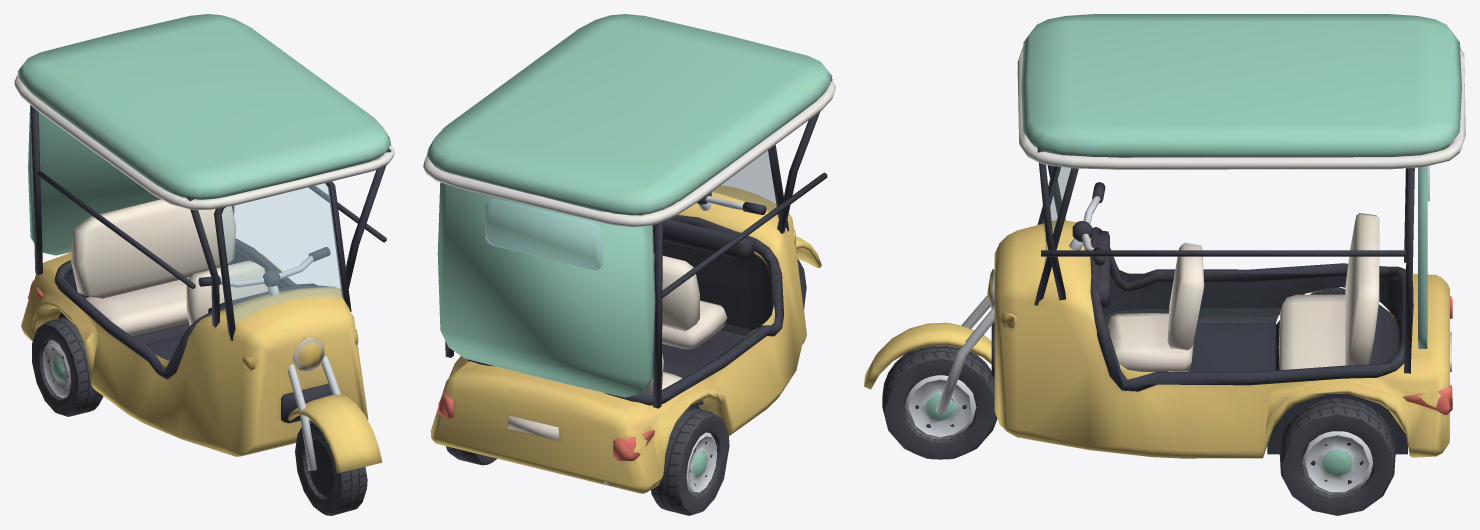
File: tuk-tuk.glb
The picture shows the model from 3 angles, left to right: view 1: azimuth 30°, elevation 25°; view 2: azimuth 150°, elevation 25°; view 3: azimuth 270°, elevation 25°; orthographic projection. The views are drawn at different scales.
Parts seen in each view (by area): view 1: tuk-tuk_body, tuk-tuk_windows, tuk-tuk_wheel_f, tuk-tuk_handlebar; view 2: tuk-tuk_body, tuk-tuk_windows, tuk-tuk_wheel_f, tuk-tuk_handlebar; view 3: tuk-tuk_body, tuk-tuk_wheel_f, tuk-tuk_handlebar, tuk-tuk_windows.
Part boxes in pixels (box(x1,y1,x2,y2)): tuk-tuk_body: box(14, 14, 394, 456); tuk-tuk_windows: box(222, 183, 342, 324); tuk-tuk_wheel_f: box(32, 317, 367, 515); tuk-tuk_handlebar: box(47, 247, 382, 494); tuk-tuk_body: box(423, 14, 835, 493); tuk-tuk_windows: box(485, 151, 777, 270); tuk-tuk_wheel_f: box(446, 259, 806, 515); tuk-tuk_handlebar: box(689, 192, 821, 485); tuk-tuk_body: box(987, 14, 1465, 458); tuk-tuk_wheel_f: box(882, 287, 1395, 515); tuk-tuk_handlebar: box(864, 182, 1366, 484); tuk-tuk_windows: box(1042, 166, 1429, 264).
Bounding box in the file's own units: 1.46 × 1.93 × 2.76.
Materials: 8 (2 with a texture image).
